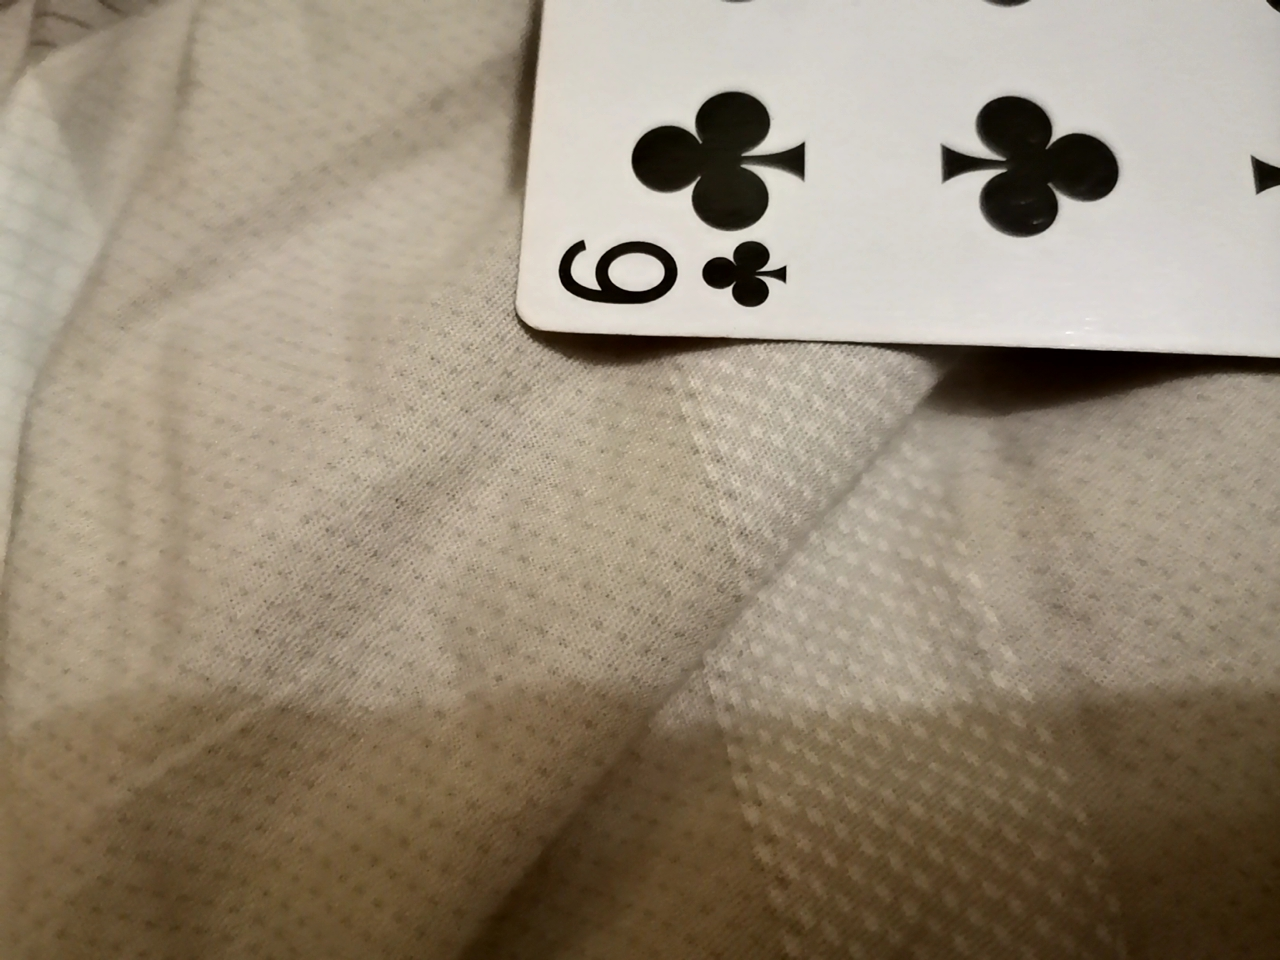mh 6: (510, 2, 1278, 378)
